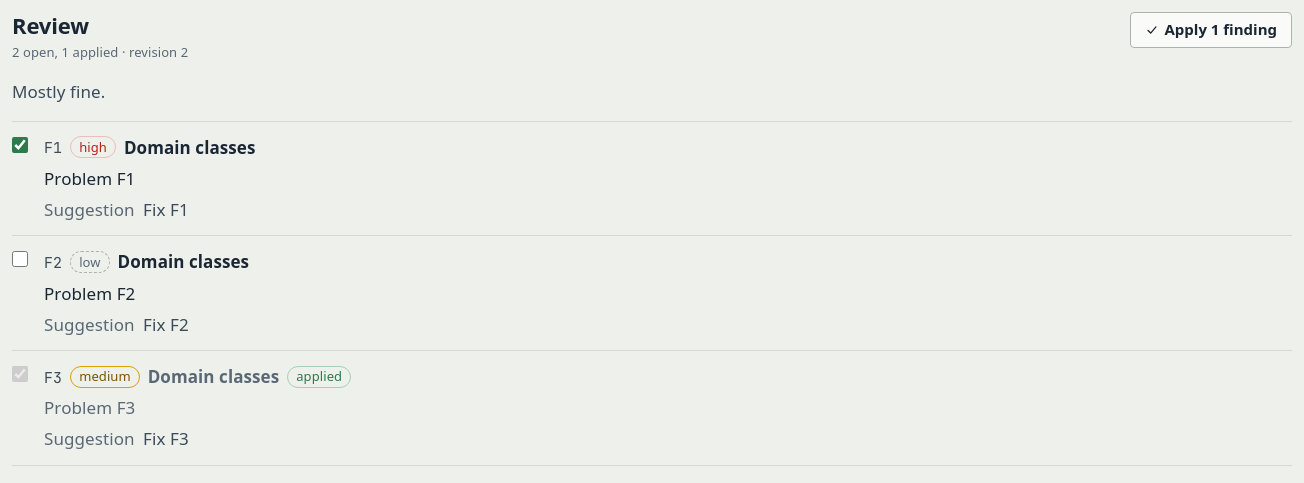
Test case: without a pick there is nothing to apply
Click the checkbox named "Apply F1": point(20, 145) left=12, top=137, right=28, bottom=153
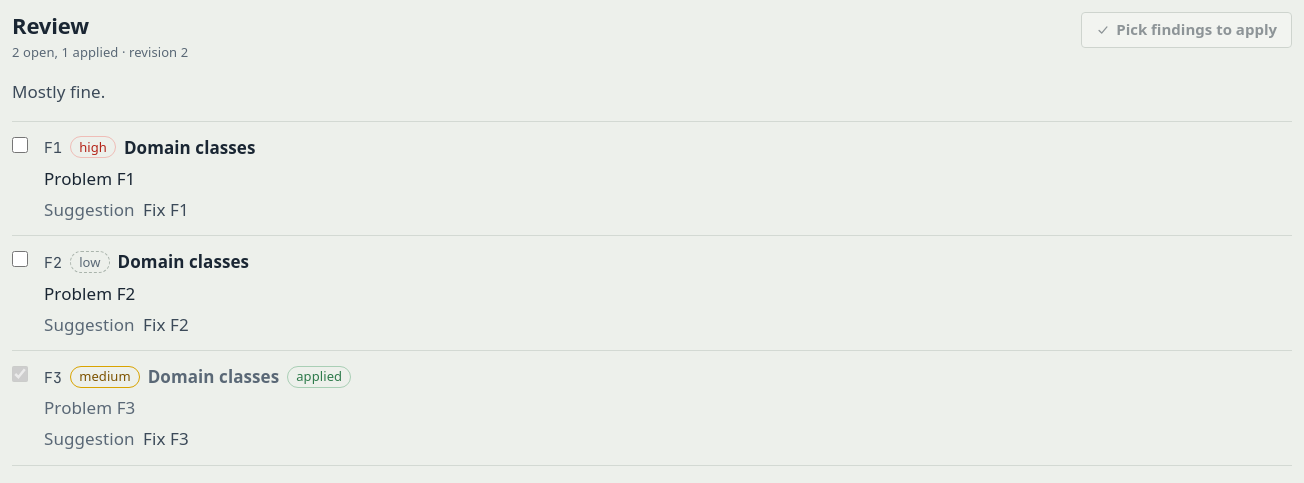
Expected: the button "Pick findings to apply" is disabled, left=1081, top=12, right=1292, bottom=48
